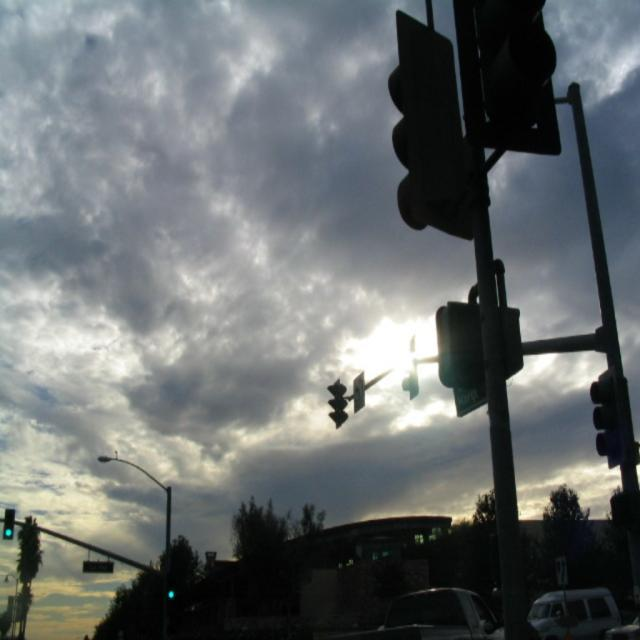off traffic light: (389, 11, 472, 239), (470, 0, 557, 127), (590, 370, 622, 469)
traffic light: (4, 508, 14, 540)
